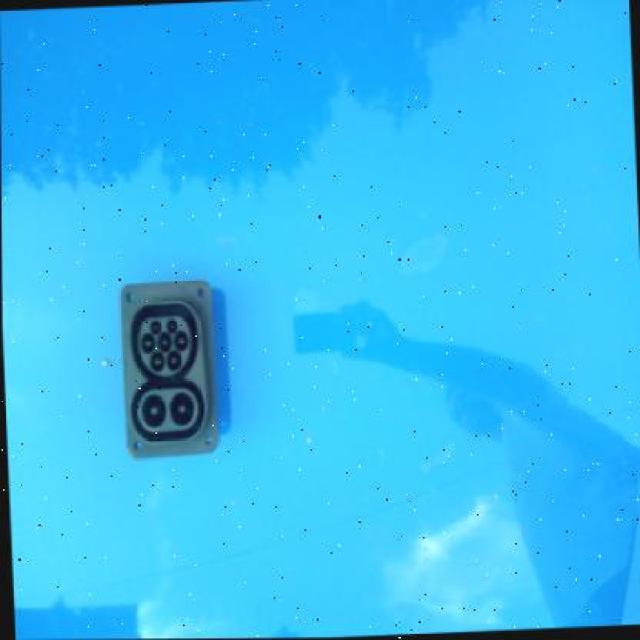CCS2: (87, 263, 261, 501)
